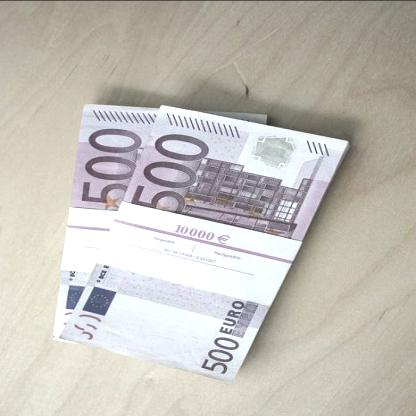euro_banknote: (56, 148, 352, 334)
